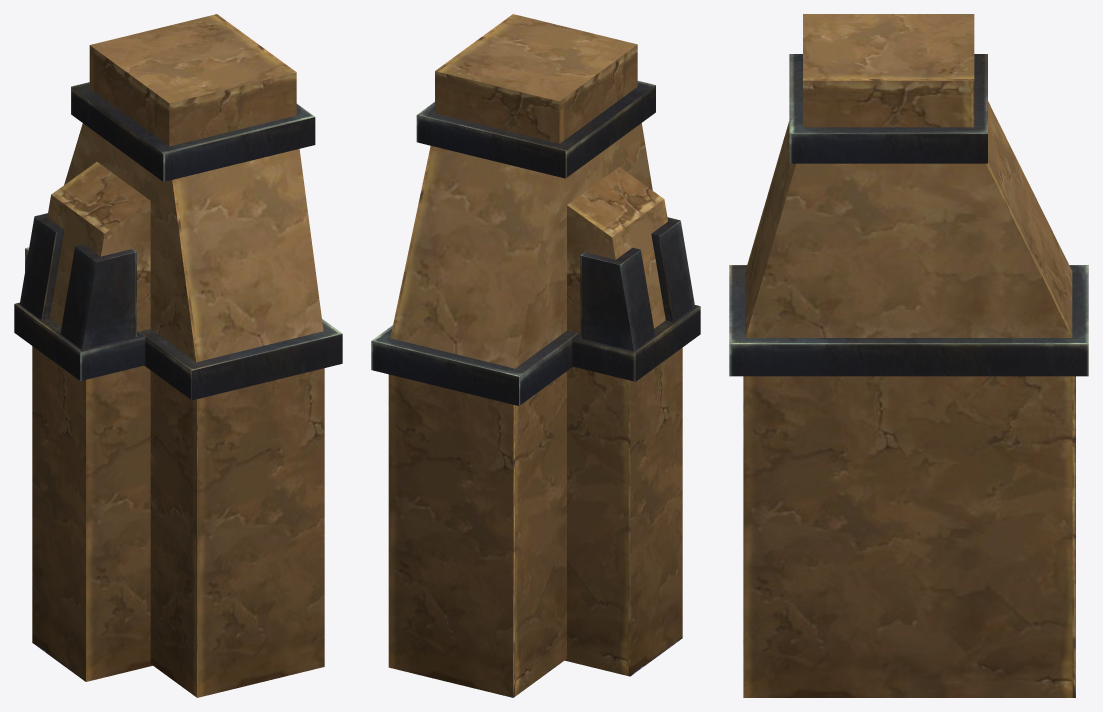
File: A_mutou_008.fbx
3 views of the same model, side by side, from view 1: azimuth 30°, elevation 25°; view 2: azimuth 150°, elevation 25°; view 3: azimuth 270°, elevation 25° (orthographic). The views are drawn at different scales.
Parts seen in each view (by area): view 1: pasted__A_mutou_008; view 2: pasted__A_mutou_008; view 3: pasted__A_mutou_008.
Boxes of the visible parts, x1,y1,x2,y2 form: pasted__A_mutou_008: [14, 14, 342, 697]; pasted__A_mutou_008: [371, 14, 700, 697]; pasted__A_mutou_008: [729, 14, 1088, 697].
Bounding box in the file's own units: 151 × 384 × 202.
